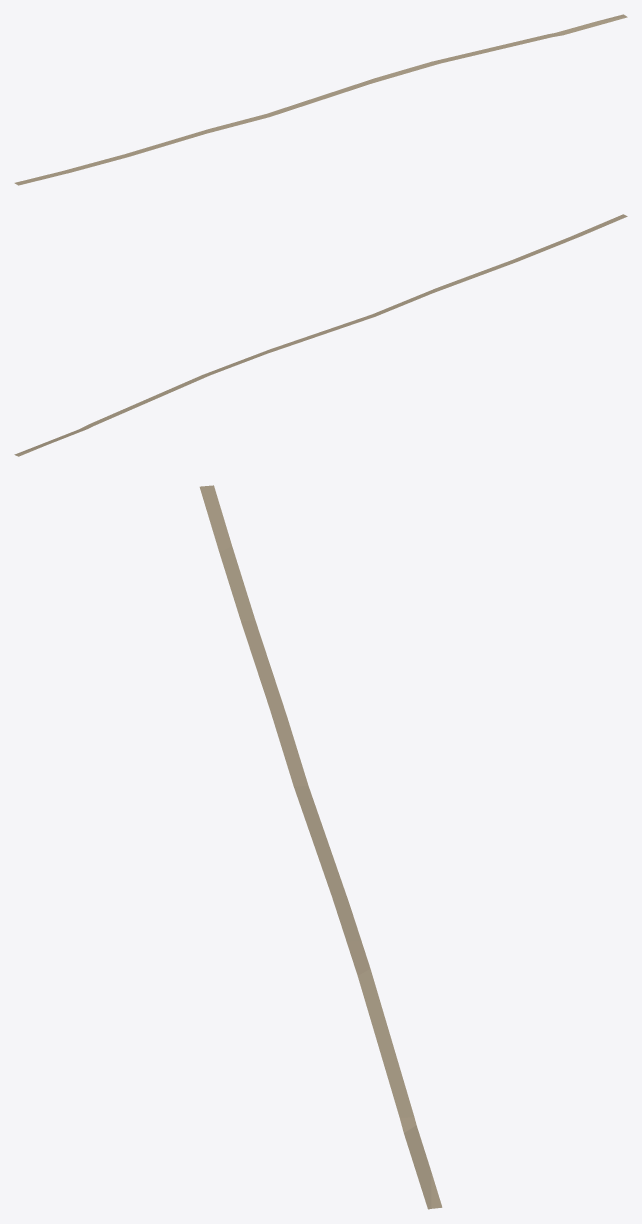
File: farm_15_0_track.glb
The picture shows the model from 3 angles, top to bottom: view 1: azimuth 30°, elevation 25°; view 2: azimuth 210°, elevation 25°; view 3: azimuth 270°, elevation 25°; orthographic projection. The views are drawn at different scales.
Visible parts, largest first — view 1: geometry_0; view 2: geometry_0; view 3: geometry_0.
Part boxes in pixels (box(x1,y1,x2,y2)): geometry_0: box(14, 14, 627, 185); geometry_0: box(14, 214, 627, 456); geometry_0: box(199, 485, 442, 1209).
Size of the model in its own units: 346 by 17.98 by 54.51.
